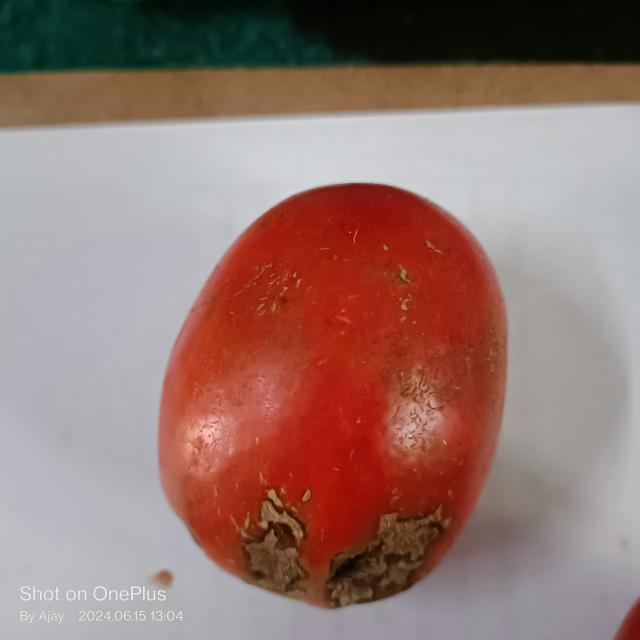Bacterial_Spot: (218, 482, 310, 589), (330, 510, 432, 604)
